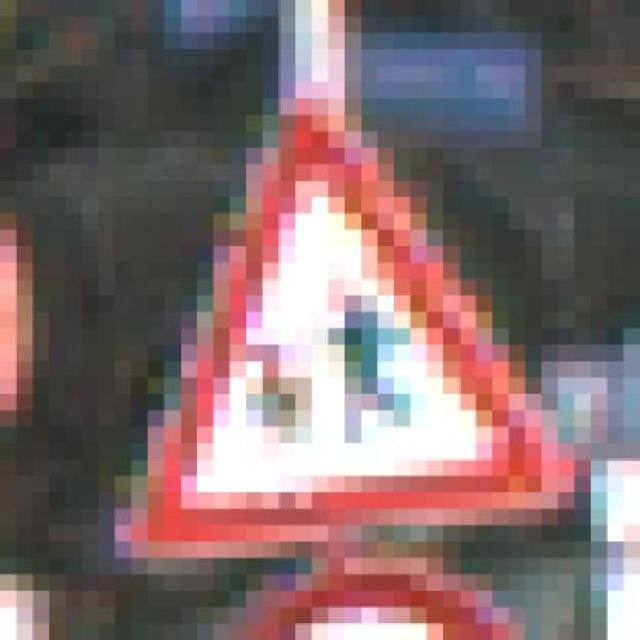Beware of children: (82, 99, 590, 558)
